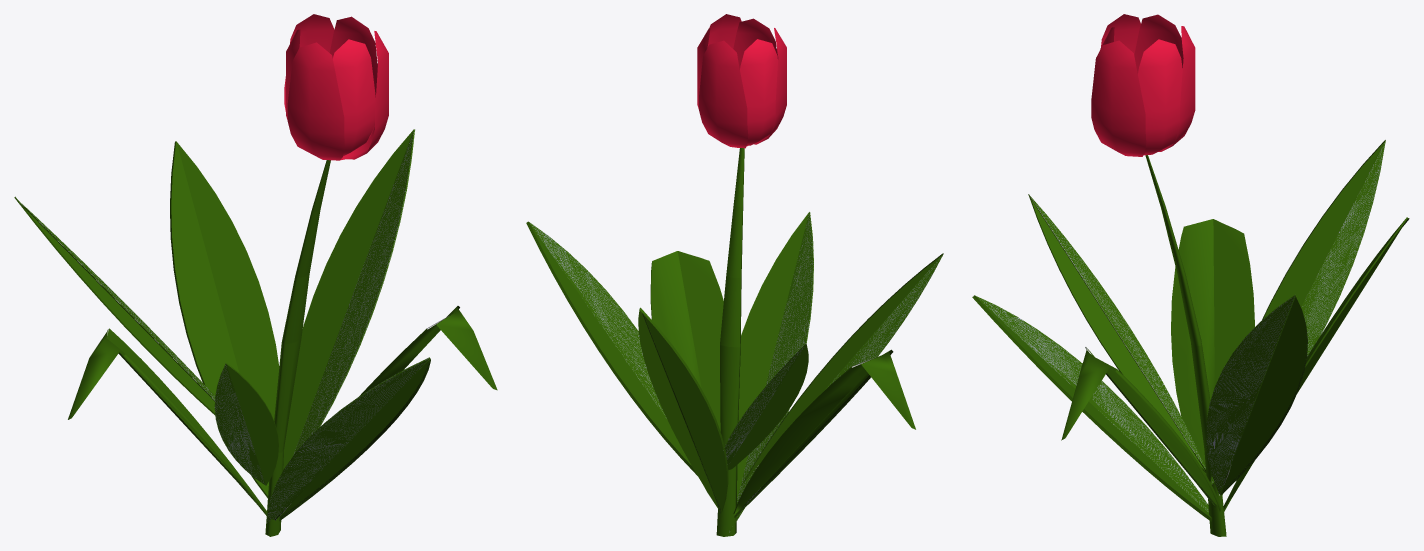
The model's file is tulipan.dae.
3 views of the same model, side by side, from view 1: azimuth 30°, elevation 25°; view 2: azimuth 150°, elevation 25°; view 3: azimuth 270°, elevation 25° (orthographic). The views are drawn at different scales.
Visible parts, largest first — view 1: group_2 (×3), group_4 (×2), group_1 (×3), Agrupar_1 (×3), group_7, group_5 (×2), Bamboo_Shoot, group_3 (×3), group_11, group_9, group_10, group_8; view 2: Agrupar_1 (×3), group_1 (×2), group_4 (×3), group_2 (×3), Bamboo_Shoot, group_5 (×3), group_8, group_3 (×2), group_12, group_7, group_11, group_9; view 3: Agrupar_1 (×3), group_4 (×3), group_1 (×3), group_3 (×2), group_5 (×3), group_9, group_10, Bamboo_Shoot, group_2 (×2), group_8, group_12, group_7.
Boxes of the visible parts, x1=… form: group_2 (×3): x1=170, y1=141, x2=279, y2=498; group_4 (×2): x1=283, y1=129, x2=414, y2=469; group_1 (×3): x1=266, y1=357, x2=430, y2=523; Agrupar_1 (×3): x1=68, y1=306, x2=497, y2=515; group_7: x1=287, y1=42, x2=344, y2=160; group_5 (×2): x1=214, y1=363, x2=278, y2=485; Bamboo_Shoot: x1=265, y1=160, x2=330, y2=536; group_3 (×3): x1=14, y1=196, x2=215, y2=415; group_11: x1=333, y1=39, x2=375, y2=156; group_9: x1=340, y1=31, x2=388, y2=160; group_10: x1=329, y1=16, x2=377, y2=137; group_8: x1=284, y1=14, x2=334, y2=111; Agrupar_1 (×3): x1=651, y1=251, x2=915, y2=517; group_1 (×2): x1=729, y1=212, x2=813, y2=532; group_4 (×3): x1=526, y1=221, x2=697, y2=475; group_2 (×3): x1=638, y1=307, x2=728, y2=513; Bamboo_Shoot: x1=716, y1=148, x2=744, y2=536; group_5 (×3): x1=741, y1=253, x2=943, y2=484; group_8: x1=699, y1=40, x2=748, y2=148; group_3 (×2): x1=723, y1=344, x2=808, y2=469; group_12: x1=740, y1=39, x2=777, y2=145; group_7: x1=754, y1=28, x2=786, y2=144; group_11: x1=733, y1=18, x2=777, y2=147; group_9: x1=707, y1=14, x2=741, y2=48; Agrupar_1 (×3): x1=1061, y1=219, x2=1254, y2=511; group_4 (×3): x1=1206, y1=295, x2=1307, y2=495; group_1 (×3): x1=972, y1=295, x2=1211, y2=521; group_3 (×2): x1=1210, y1=141, x2=1385, y2=484; group_5 (×3): x1=1028, y1=194, x2=1205, y2=472; group_9: x1=1091, y1=40, x2=1146, y2=156; group_10: x1=1138, y1=39, x2=1182, y2=154; Bamboo_Shoot: x1=1145, y1=155, x2=1226, y2=536; group_2 (×2): x1=1223, y1=217, x2=1407, y2=509; group_8: x1=1158, y1=26, x2=1195, y2=151; group_12: x1=1134, y1=14, x2=1183, y2=155; group_7: x1=1101, y1=14, x2=1140, y2=54.
Bounding box in the file's own units: 28.07 × 27.76 × 36.26.
